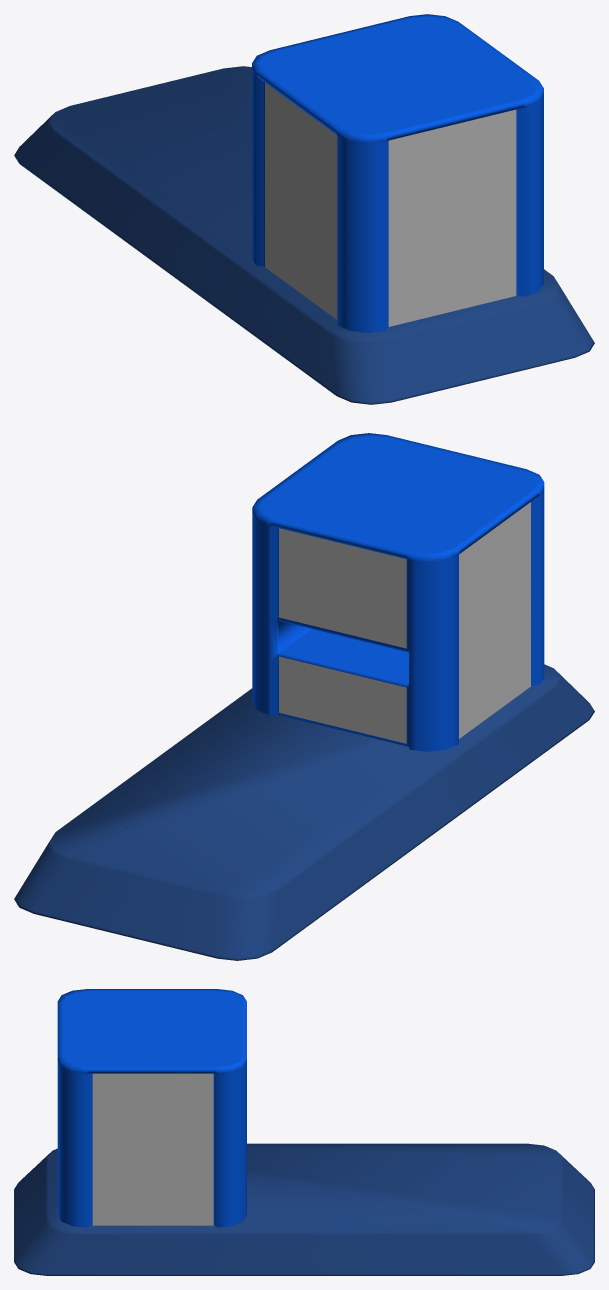
The model's file is dispensador2.fbx.
3 renders of one model, top to bottom at view 1: azimuth 30°, elevation 25°; view 2: azimuth 150°, elevation 25°; view 3: azimuth 270°, elevation 25°, orthographic. The views are drawn at different scales.
Visible parts, largest first — view 1: Cube.004; view 2: Cube.004; view 3: Cube.004.
Boxes of the visible parts, x1,y1,x2,y2 form: Cube.004: (14, 14, 594, 404); Cube.004: (14, 433, 594, 960); Cube.004: (14, 989, 594, 1275).
Bounding box in the file's own units: 317 × 291 × 778.
